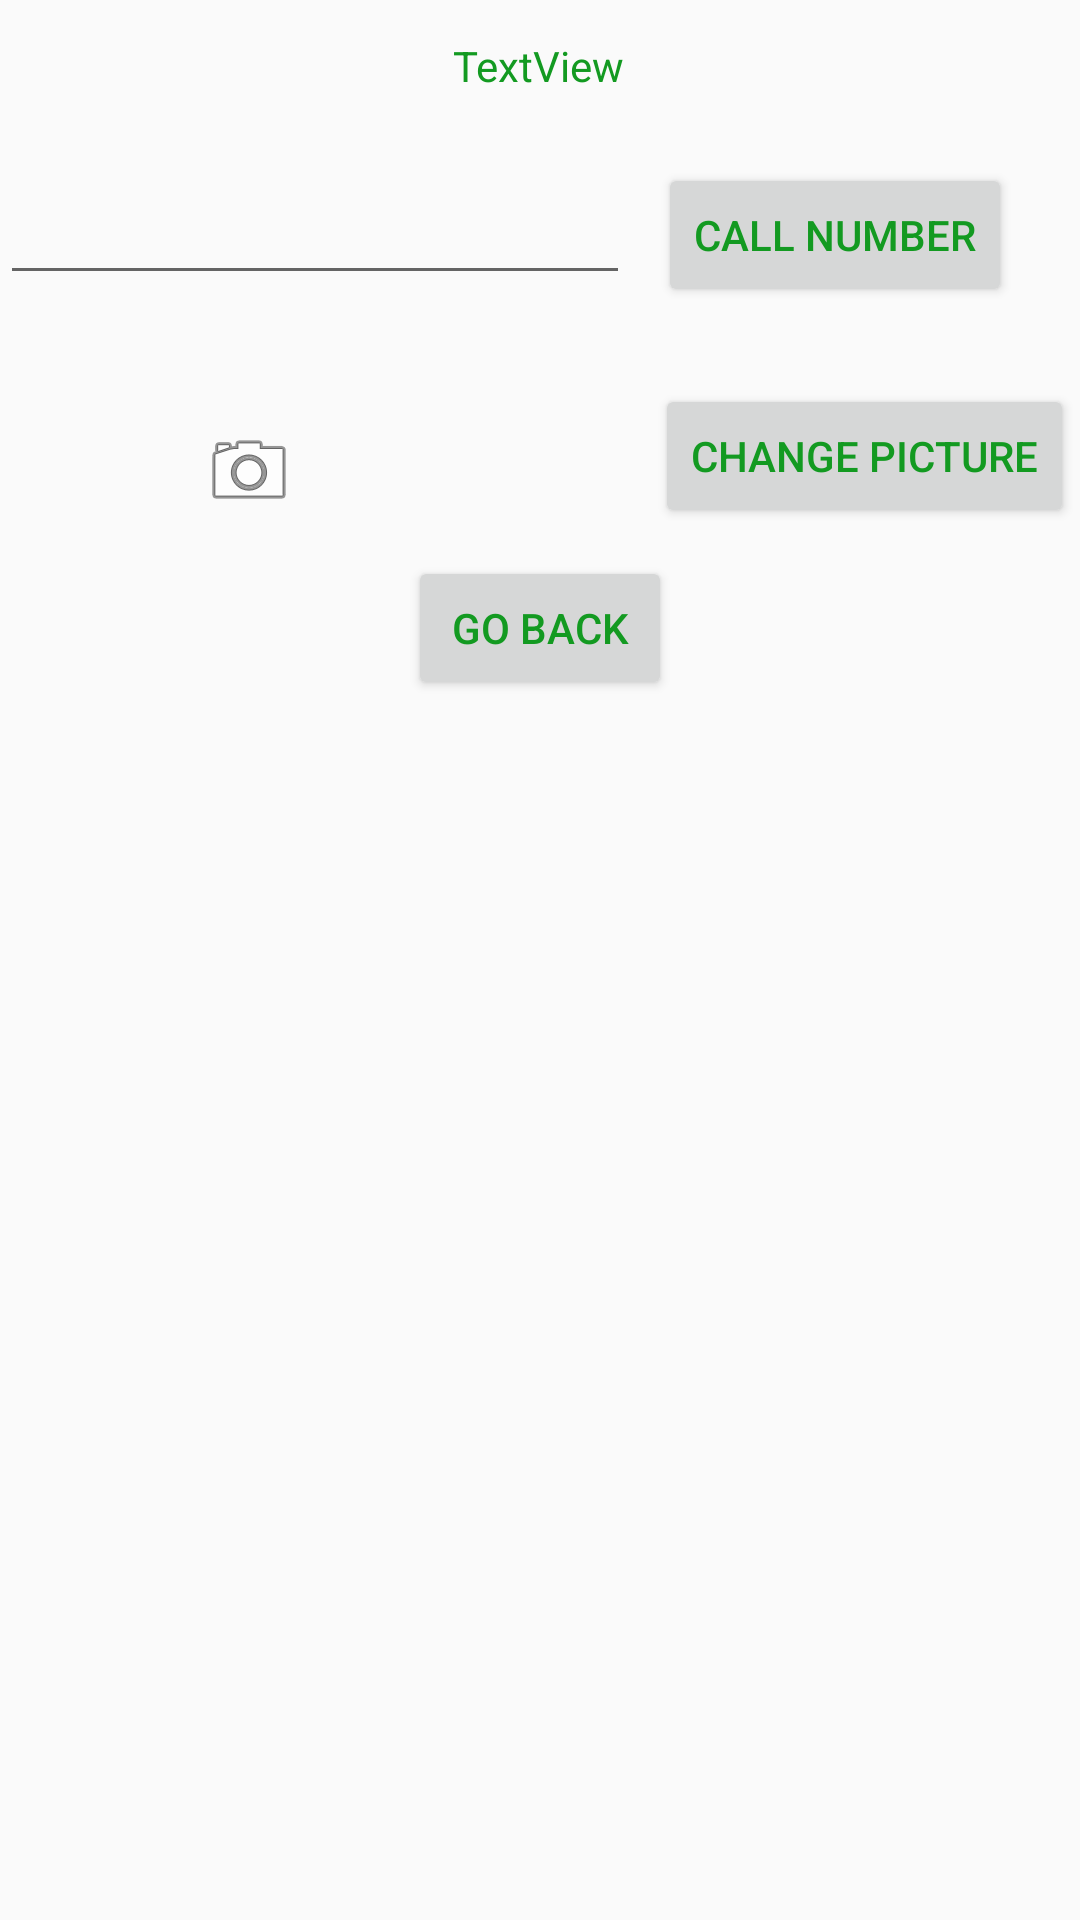

Screen size 1080x1920. Icon name, then its center in pixels as (x,y):
camera: (249,469)
